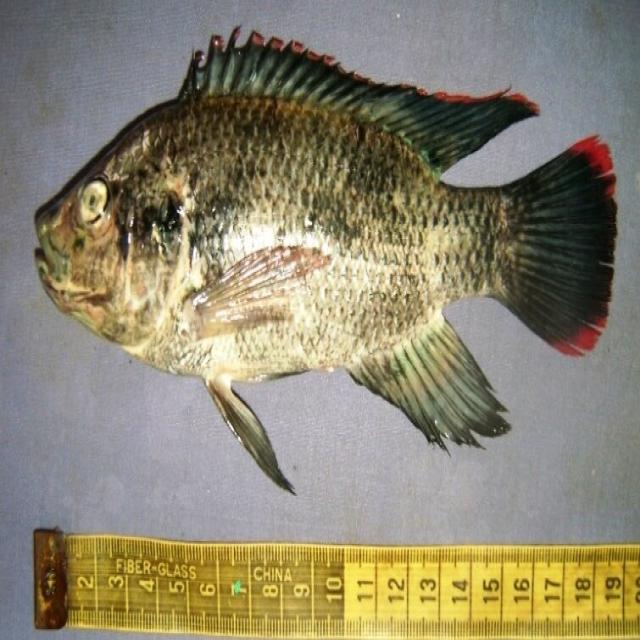ikan: (32, 23, 618, 494)
